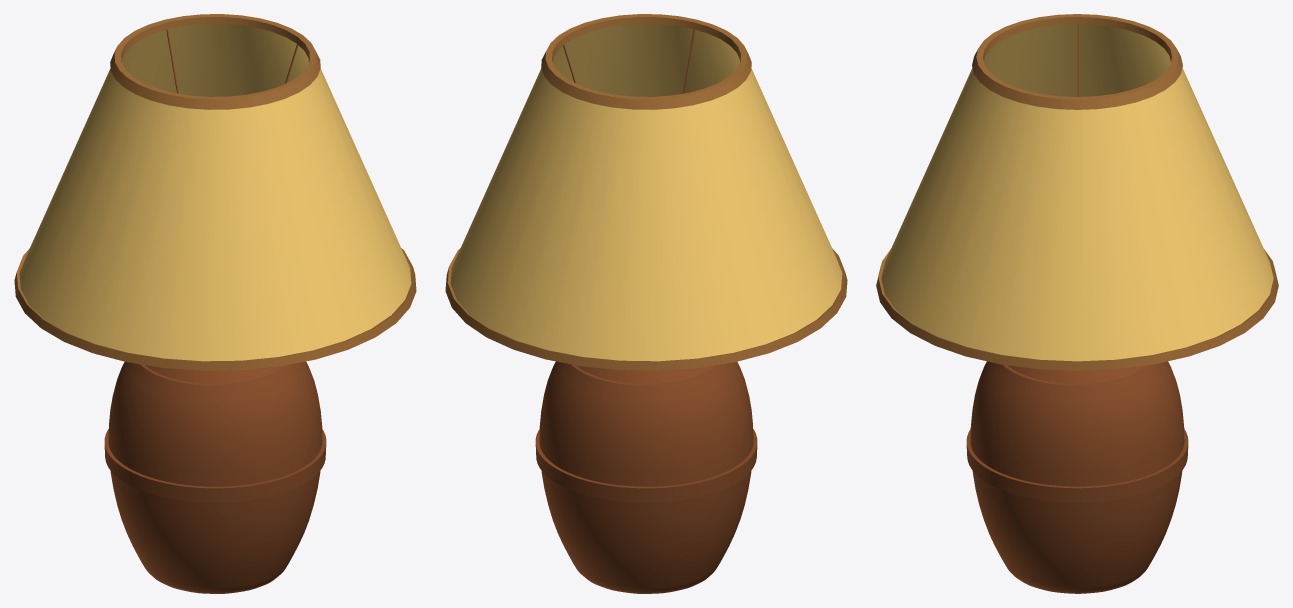
File: Lamp.fbx
3 renders of one model, left to right at view 1: azimuth 30°, elevation 25°; view 2: azimuth 150°, elevation 25°; view 3: azimuth 270°, elevation 25°, orthographic.
Visible parts, largest first — view 1: Lamp; view 2: Lamp; view 3: Lamp.
Part boxes in pixels (<box>): Lamp: <box>14,14,416,593</box>; Lamp: <box>445,14,847,593</box>; Lamp: <box>876,14,1278,593</box>.
Bounding box in the file's own units: 32.42 × 45.64 × 32.42.
